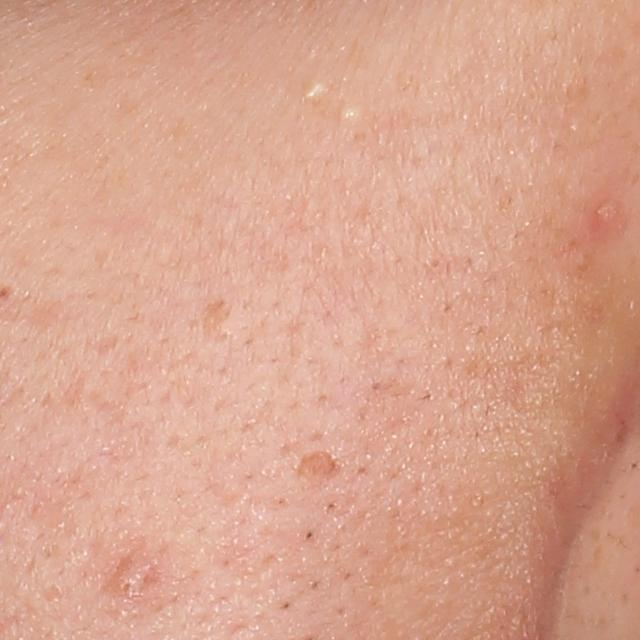atrophic_scar: (289, 446, 349, 493), (200, 299, 234, 347)
comedo: (333, 99, 360, 127), (297, 78, 323, 107)
papule: (578, 188, 632, 237)
